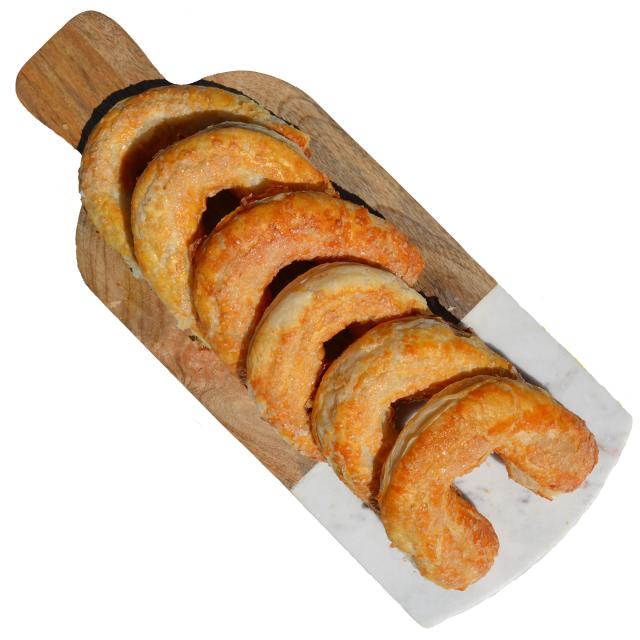Bagel: (378, 375, 599, 590), (131, 122, 336, 340), (194, 191, 424, 379), (79, 85, 309, 271), (311, 316, 520, 512), (246, 262, 431, 460)
